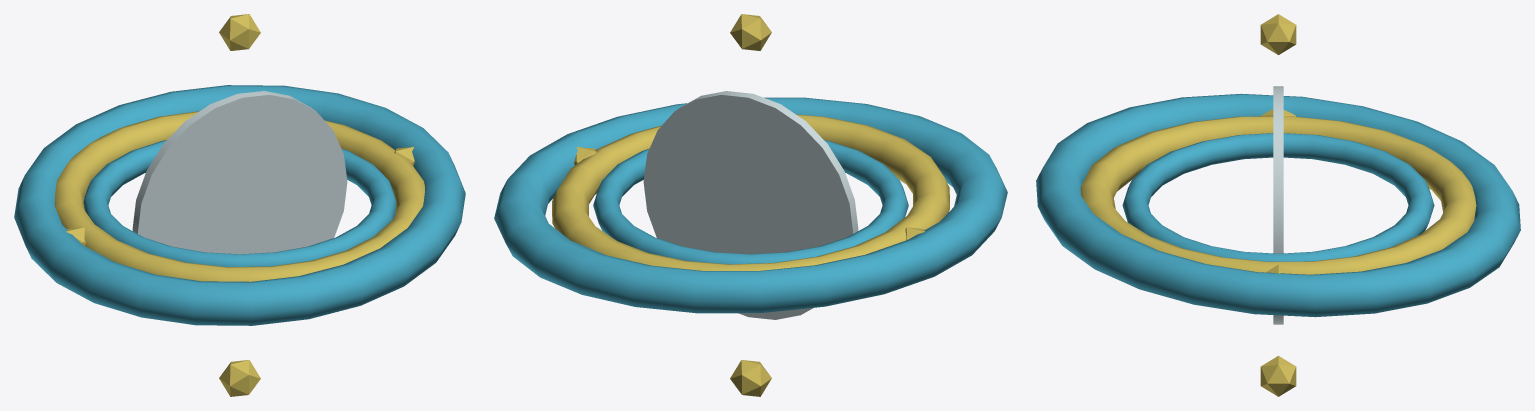
Rendered from village.glb.
3 renders of one model, left to right at view 1: azimuth 30°, elevation 25°; view 2: azimuth 150°, elevation 25°; view 3: azimuth 270°, elevation 25°, orthographic.
Parts seen in each view (by area): view 1: portal_ring_2, portal_core, portal_ring_1, portal_ring_0, portal_orbit_1, portal_orbit_3; view 2: portal_ring_2, portal_core, portal_ring_1, portal_ring_0, portal_orbit_1, portal_orbit_3; view 3: portal_ring_2, portal_ring_1, portal_ring_0, portal_core, portal_orbit_1, portal_orbit_3.
Part boxes in pixels (x1=…): portal_ring_2: x1=14, y1=85, x2=465, y2=325; portal_core: x1=132, y1=91, x2=347, y2=254; portal_ring_1: x1=55, y1=111, x2=424, y2=281; portal_ring_0: x1=83, y1=140, x2=396, y2=266; portal_orbit_1: x1=219, y1=14, x2=260, y2=50; portal_orbit_3: x1=219, y1=360, x2=260, y2=396; portal_ring_2: x1=494, y1=97, x2=1007, y2=313; portal_core: x1=643, y1=91, x2=858, y2=319; portal_ring_1: x1=552, y1=114, x2=949, y2=270; portal_ring_0: x1=593, y1=140, x2=908, y2=264; portal_orbit_1: x1=730, y1=14, x2=771, y2=50; portal_orbit_3: x1=730, y1=360, x2=771, y2=396; portal_ring_2: x1=1036, y1=93, x2=1520, y2=317; portal_ring_1: x1=1080, y1=116, x2=1476, y2=274; portal_ring_0: x1=1122, y1=133, x2=1434, y2=261; portal_core: x1=1273, y1=86, x2=1283, y2=324; portal_orbit_1: x1=1260, y1=14, x2=1296, y2=54; portal_orbit_3: x1=1260, y1=356, x2=1296, y2=396.
Size of what is drawn, in the model's own units: 3.66 by 3.17 by 3.73.
